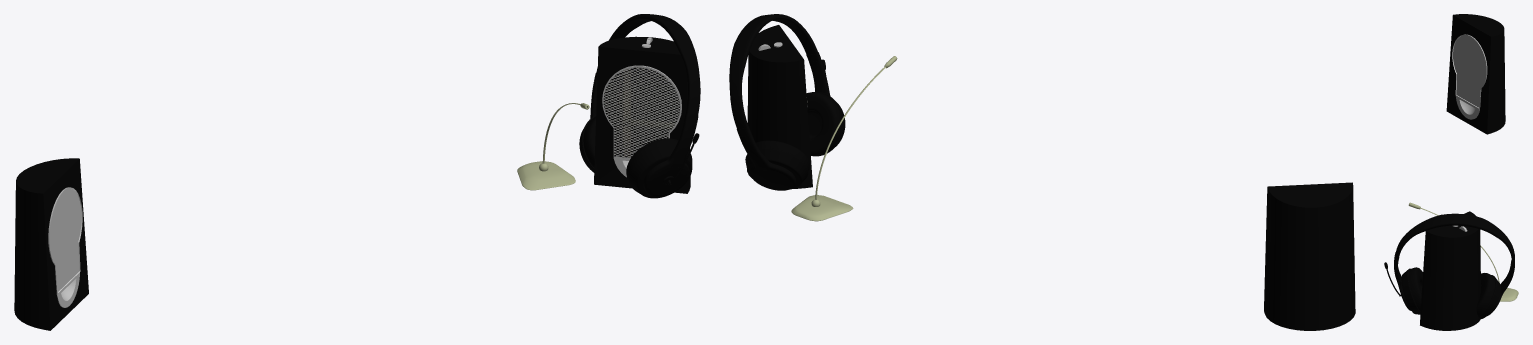
Rendered from ScrivaniaEnzoTelefonoAssistenza.gltf.
3 views of the same model, side by side, from view 1: azimuth 30°, elevation 25°; view 2: azimuth 150°, elevation 25°; view 3: azimuth 270°, elevation 25° (orthographic). The views are drawn at different scales.
Parts seen in each view (by area): view 1: Bianco Altoparlante SX, Bianco Altoparlante DX, Bianco Cuffie, Bianco Microfono; view 2: Bianco Altoparlante SX, Bianco Cuffie, Bianco Altoparlante DX, Bianco Microfono; view 3: Bianco Altoparlante SX, Bianco Altoparlante DX, Bianco Cuffie, Bianco Microfono.
Part boxes in pixels (x1,y1,x2,y2): Bianco Altoparlante SX: [14, 158, 88, 330]; Bianco Altoparlante DX: [594, 36, 690, 193]; Bianco Cuffie: [579, 14, 700, 198]; Bianco Microfono: [517, 103, 589, 190]; Bianco Altoparlante SX: [1264, 182, 1355, 330]; Bianco Cuffie: [729, 14, 845, 190]; Bianco Altoparlante DX: [747, 25, 812, 188]; Bianco Microfono: [791, 56, 897, 221]; Bianco Altoparlante SX: [1446, 14, 1505, 134]; Bianco Altoparlante DX: [1420, 211, 1480, 330]; Bianco Cuffie: [1384, 213, 1514, 318]; Bianco Microfono: [1408, 202, 1518, 301].
Size of the model in its own units: 0.8204 by 0.1944 by 0.2083.
5 materials, 1 textured.
